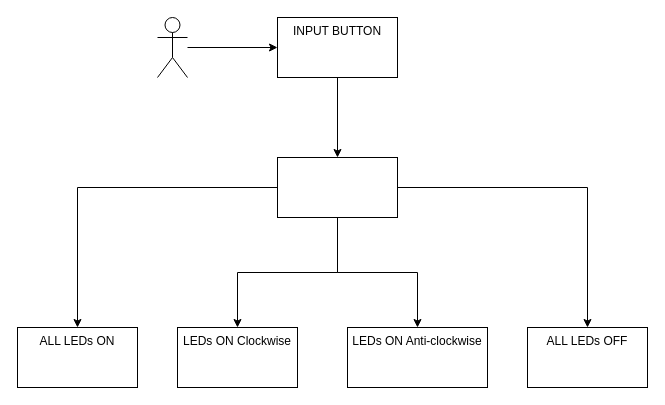
Some shapes in this 665 by 405 pixel diagram are drawn without their labels. The shapes that lost their labels are listed below. From the top down, each one's centre as x and y in pixels, then its label:
At [172,47]: "USER".
At [337,187]: "Encryption".
